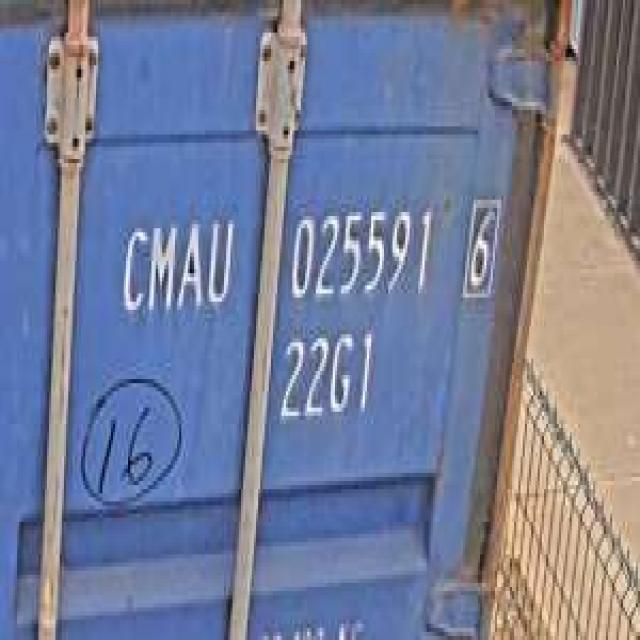dv: (461, 183, 501, 306)
owner: (115, 204, 237, 326)
serial: (284, 196, 437, 306)
size: (277, 322, 378, 428)
